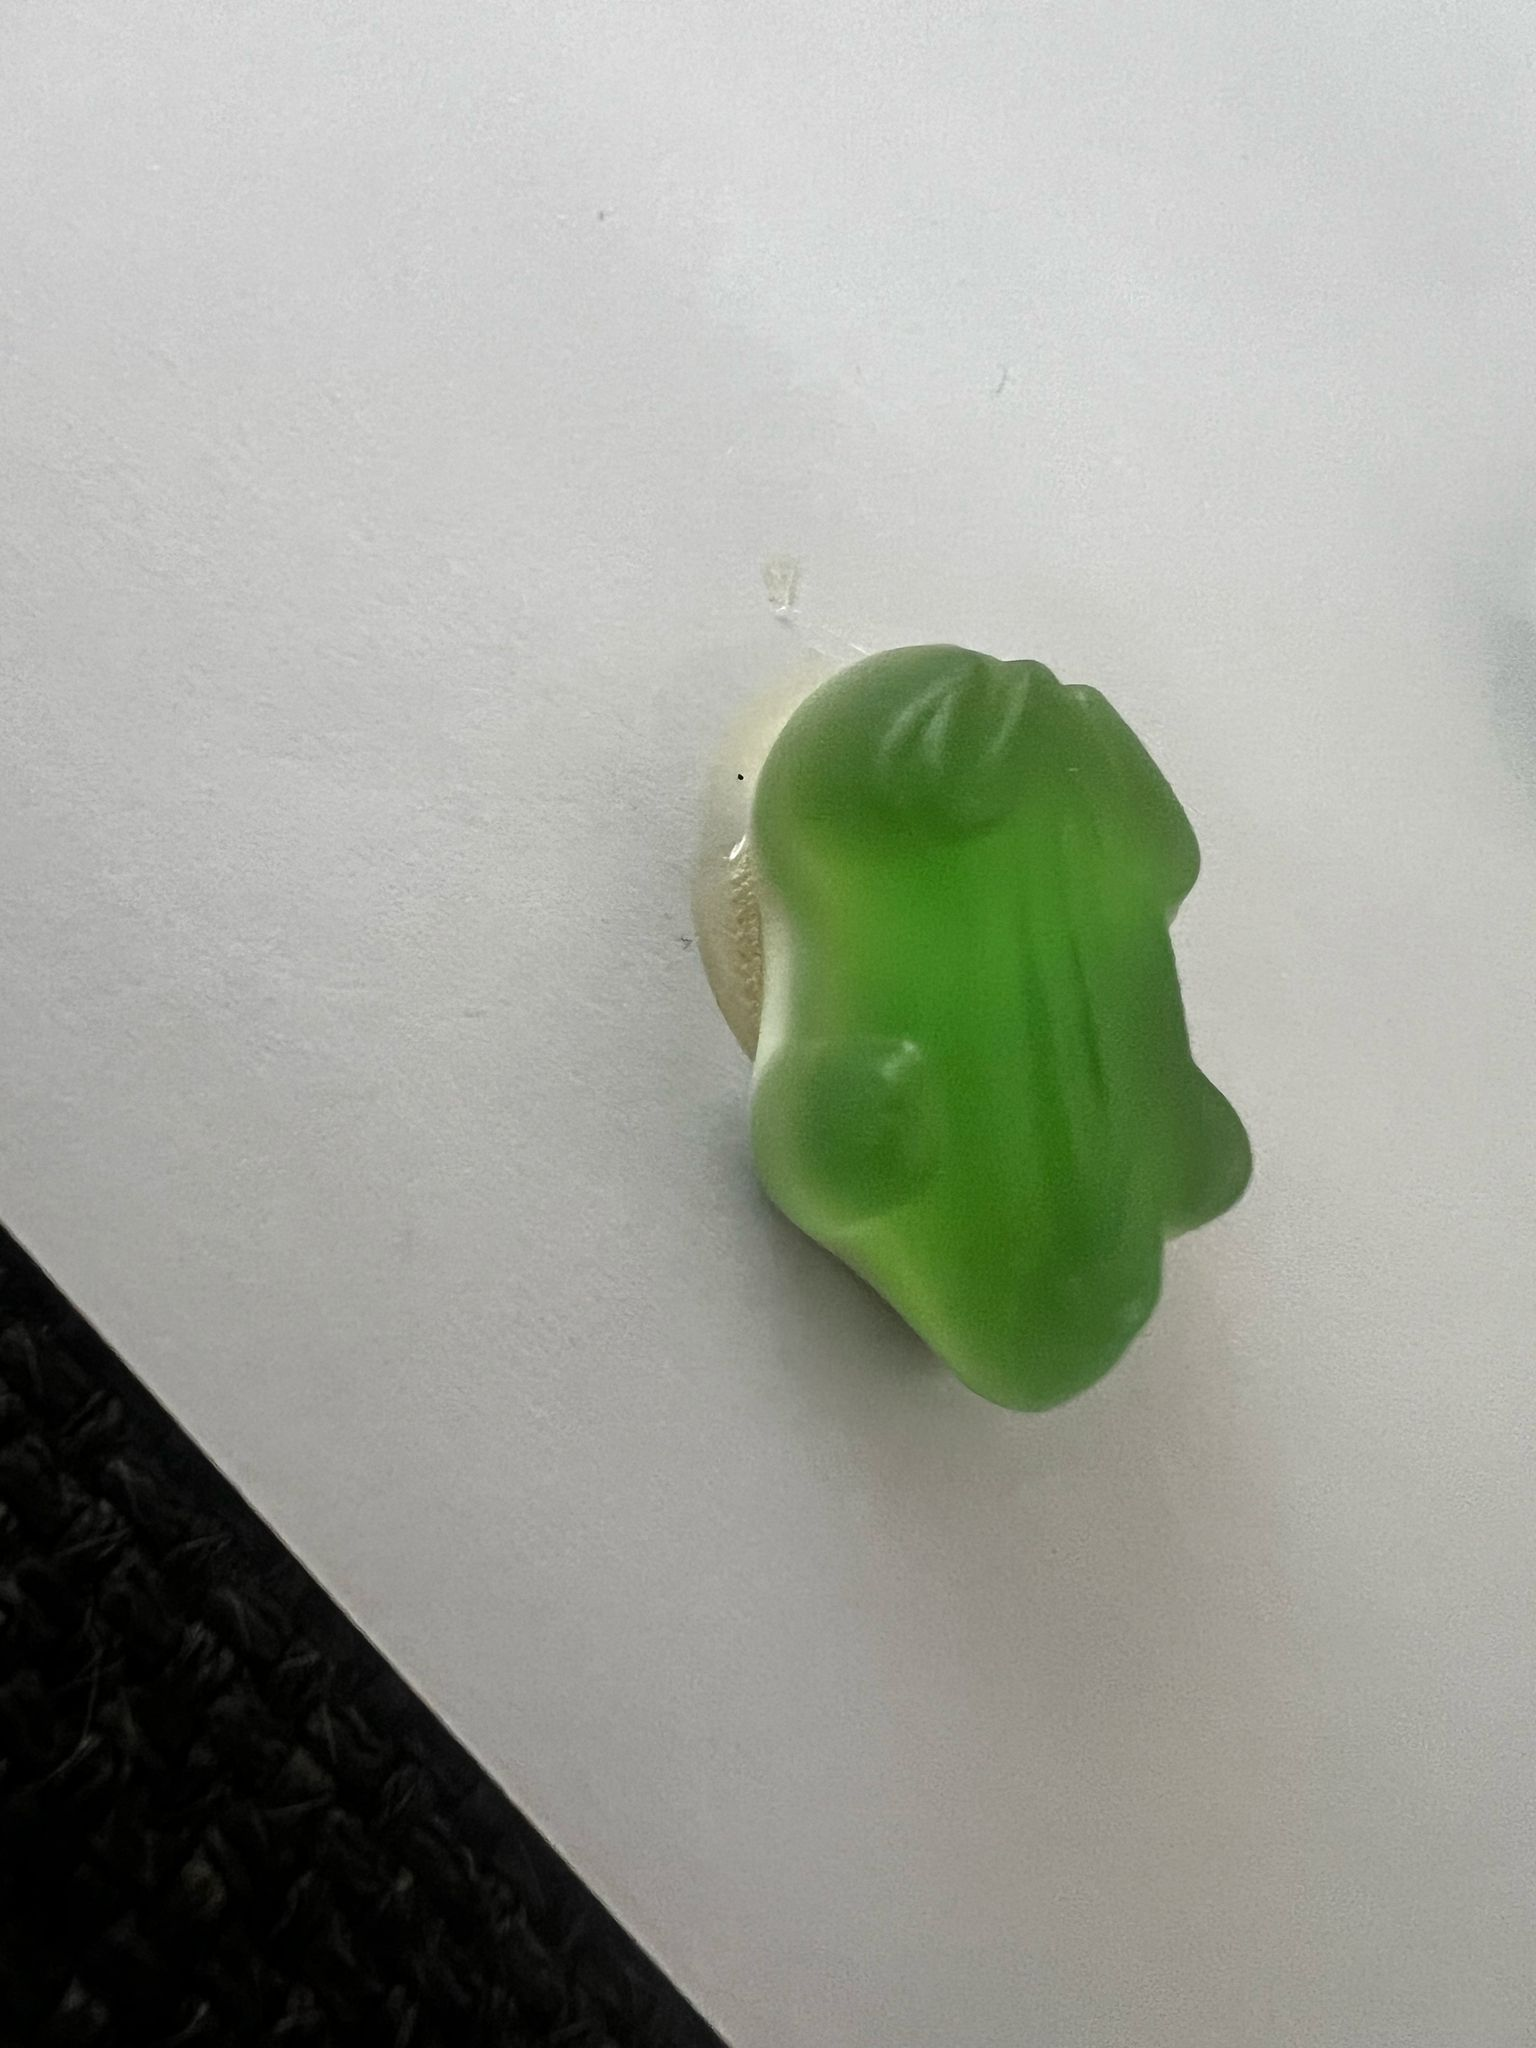frog: (720, 613, 1262, 1448)
